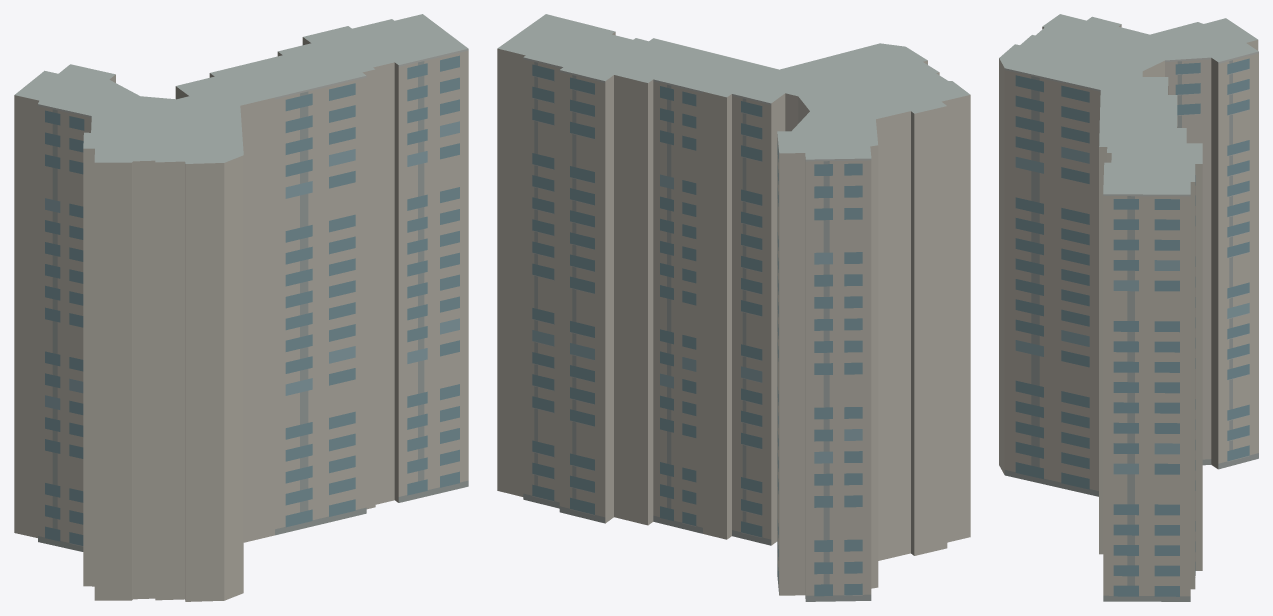
Rendered from residential-2a9ae1c3-81db-40a5-a346-dba79d93c2b8.glb.
3 renders of one model, left to right at view 1: azimuth 30°, elevation 25°; view 2: azimuth 150°, elevation 25°; view 3: azimuth 270°, elevation 25°, orthographic. The views are drawn at different scales.
Visible parts, largest first — view 1: residential-2a9ae1c3-81db-40a5-a346-dba79d93c2b8.tmp; view 2: residential-2a9ae1c3-81db-40a5-a346-dba79d93c2b8.tmp; view 3: residential-2a9ae1c3-81db-40a5-a346-dba79d93c2b8.tmp.
Part boxes in pixels (x1,y1,x2,y2): residential-2a9ae1c3-81db-40a5-a346-dba79d93c2b8.tmp: (14,14,468,601); residential-2a9ae1c3-81db-40a5-a346-dba79d93c2b8.tmp: (497,14,970,601); residential-2a9ae1c3-81db-40a5-a346-dba79d93c2b8.tmp: (999,14,1258,601).
Bounding box in the file's own units: 54.27 × 57 × 32.95.
